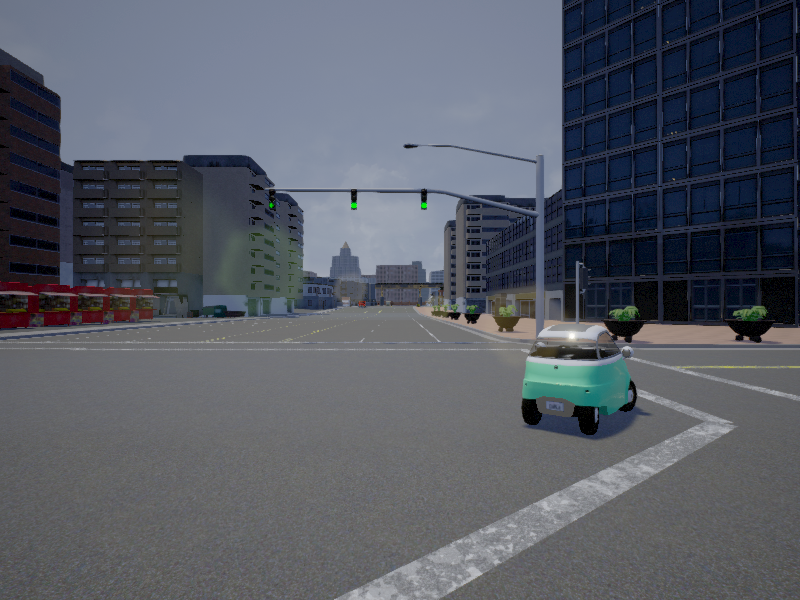Benign: (520, 323, 638, 438)
